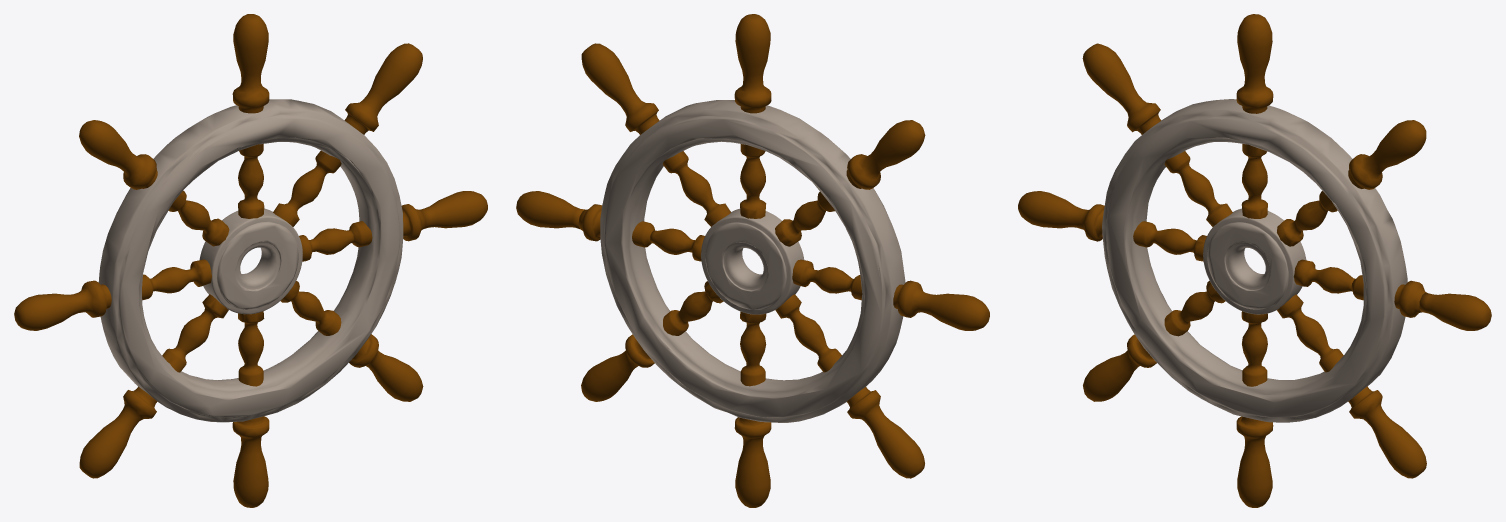
Rendered from Wheel.fbx.
3 renders of one model, left to right at view 1: azimuth 30°, elevation 25°; view 2: azimuth 150°, elevation 25°; view 3: azimuth 330°, elevation 25°, orthographic.
Visible parts, largest first — view 1: Circle, Circle.001, Cube.001, Cube.002, Cube.008, Cube.006, Cube.007, Cube.004, Cube.003, Cube.010, Cube.005, Cube.009; view 2: Circle, Circle.001, Cube.002, Cube.001, Cube.008, Cube.006, Cube.007, Cube.004, Cube.003, Cube.010, Cube.005, Cube.009; view 3: Circle, Circle.001, Cube.003, Cube.004, Cube.008, Cube.007, Cube.006, Cube.001, Cube.002, Cube.010, Cube.009, Cube.005.
Boxes of the visible parts, bbox=[...] form: Circle: bbox=[98, 99, 403, 422]; Circle.001: bbox=[199, 208, 302, 314]; Cube.001: bbox=[273, 43, 422, 226]; Cube.002: bbox=[79, 294, 228, 478]; Cube.008: bbox=[232, 14, 269, 218]; Cube.006: bbox=[14, 259, 211, 330]; Cube.007: bbox=[232, 311, 269, 507]; Cube.004: bbox=[79, 120, 229, 246]; Cube.003: bbox=[280, 280, 423, 401]; Cube.010: bbox=[420, 191, 487, 228]; Cube.005: bbox=[349, 204, 425, 247]; Cube.009: bbox=[299, 228, 354, 261]; Circle: bbox=[600, 100, 905, 422]; Circle.001: bbox=[701, 208, 804, 314]; Cube.002: bbox=[775, 294, 924, 478]; Cube.001: bbox=[581, 43, 730, 226]; Cube.008: bbox=[734, 14, 771, 218]; Cube.006: bbox=[792, 259, 989, 330]; Cube.007: bbox=[734, 311, 771, 507]; Cube.004: bbox=[775, 120, 925, 246]; Cube.003: bbox=[581, 281, 723, 401]; Cube.010: bbox=[516, 191, 584, 228]; Cube.005: bbox=[578, 204, 654, 247]; Cube.009: bbox=[650, 228, 704, 261]; Circle: bbox=[1102, 99, 1407, 422]; Circle.001: bbox=[1203, 208, 1306, 314]; Cube.003: bbox=[1277, 294, 1426, 478]; Cube.004: bbox=[1082, 43, 1232, 226]; Cube.008: bbox=[1236, 14, 1273, 218]; Cube.007: bbox=[1236, 311, 1273, 507]; Cube.006: bbox=[1018, 191, 1206, 261]; Cube.001: bbox=[1277, 120, 1426, 246]; Cube.002: bbox=[1083, 281, 1225, 401]; Cube.010: bbox=[1419, 292, 1491, 330]; Cube.009: bbox=[1293, 259, 1355, 293]; Cube.005: bbox=[1351, 275, 1426, 317].
Bounding box in the file's own units: 389 × 389 × 28.54.
